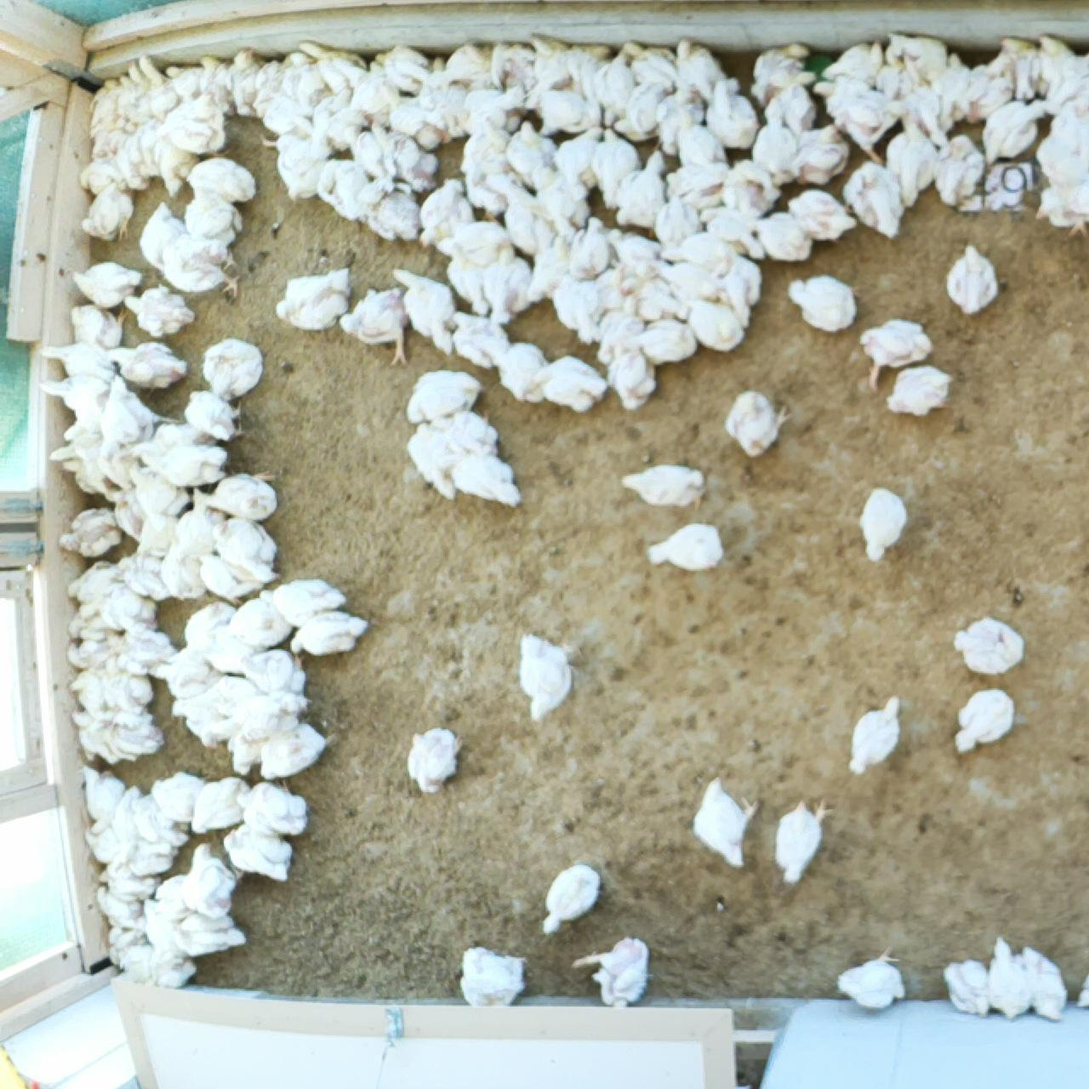chicken: (99, 370, 186, 464), (813, 74, 902, 165), (200, 690, 310, 750), (693, 774, 759, 872), (513, 630, 582, 723), (392, 265, 460, 356), (255, 127, 335, 204), (156, 232, 245, 301), (573, 937, 653, 1012), (773, 794, 836, 887), (834, 940, 909, 1017), (859, 315, 933, 392), (341, 286, 409, 367), (155, 89, 231, 160), (36, 373, 109, 446), (949, 614, 1032, 677), (258, 577, 348, 635), (708, 245, 768, 331), (273, 265, 351, 331), (724, 387, 793, 461), (538, 859, 602, 938), (950, 683, 1018, 757), (843, 161, 907, 239), (847, 691, 905, 777), (885, 113, 939, 205), (237, 647, 311, 714), (894, 53, 946, 148), (609, 148, 669, 230), (484, 238, 539, 327), (259, 720, 337, 782), (648, 255, 720, 322), (400, 723, 466, 796), (188, 470, 277, 524), (590, 124, 644, 212), (234, 777, 307, 842), (532, 355, 611, 415), (415, 174, 475, 253), (282, 607, 369, 661), (103, 341, 190, 395), (449, 448, 526, 509), (210, 516, 281, 582), (984, 935, 1036, 1025), (417, 53, 471, 139), (701, 74, 761, 151), (248, 46, 312, 118), (405, 367, 483, 426), (179, 843, 241, 917), (222, 819, 293, 883), (981, 98, 1047, 166), (752, 96, 801, 187), (456, 946, 529, 1007), (786, 275, 862, 333), (944, 240, 999, 319), (533, 79, 605, 139), (960, 48, 1015, 126), (201, 338, 267, 403), (180, 184, 245, 249), (621, 462, 707, 511), (1017, 945, 1069, 1026), (655, 79, 707, 160), (406, 422, 459, 501), (647, 521, 727, 573), (531, 169, 593, 236), (312, 155, 373, 223), (139, 441, 231, 486), (353, 185, 423, 244), (506, 119, 561, 194), (520, 31, 575, 106), (487, 337, 549, 403), (112, 614, 174, 680), (857, 486, 910, 562), (744, 40, 810, 101), (450, 216, 523, 271), (168, 494, 225, 564), (379, 97, 450, 153), (124, 285, 195, 341), (313, 86, 368, 158), (933, 132, 985, 208), (458, 164, 527, 221), (187, 775, 251, 836), (595, 291, 646, 367), (695, 202, 763, 259), (626, 312, 695, 368), (347, 120, 398, 195), (450, 116, 517, 173), (149, 647, 216, 704), (195, 554, 262, 611), (55, 505, 123, 561), (529, 231, 579, 307), (138, 202, 188, 278), (186, 153, 259, 205), (785, 190, 859, 241), (556, 125, 608, 197), (440, 238, 488, 315), (818, 37, 889, 89), (1035, 115, 1089, 183), (450, 309, 509, 371), (664, 159, 733, 212), (790, 122, 846, 187), (96, 710, 166, 762), (551, 273, 602, 344), (885, 364, 953, 417), (177, 908, 249, 958), (602, 221, 664, 279), (197, 621, 261, 677), (502, 182, 549, 258), (584, 255, 635, 325), (71, 260, 141, 311), (224, 598, 291, 651), (97, 580, 158, 638), (79, 765, 128, 837), (614, 272, 683, 323), (604, 348, 658, 413), (1033, 180, 1089, 242), (721, 159, 784, 214), (60, 454, 123, 509), (671, 39, 725, 103), (614, 77, 666, 143), (997, 35, 1049, 101), (686, 295, 744, 354), (762, 74, 820, 133), (674, 105, 728, 168), (40, 339, 121, 381), (882, 33, 948, 84), (351, 59, 399, 129), (185, 388, 247, 442), (460, 88, 528, 137), (83, 180, 135, 244), (132, 420, 212, 461), (750, 211, 813, 263), (297, 39, 365, 87), (388, 131, 438, 196), (621, 38, 676, 97), (131, 795, 190, 850), (68, 708, 123, 767), (595, 50, 636, 129), (571, 213, 619, 280), (98, 659, 155, 715), (86, 436, 143, 492), (128, 466, 186, 521), (651, 190, 702, 252), (117, 548, 173, 604), (150, 770, 207, 825), (152, 132, 198, 200), (156, 540, 209, 599), (373, 42, 433, 94), (227, 48, 268, 124), (64, 306, 130, 353), (942, 958, 992, 1020), (440, 412, 503, 461), (279, 59, 335, 114), (169, 689, 221, 748), (201, 674, 266, 721), (562, 38, 610, 101), (66, 556, 122, 610), (101, 131, 149, 194), (182, 597, 235, 654), (531, 88, 590, 139), (1047, 50, 1089, 119), (937, 49, 971, 133), (134, 901, 181, 960), (103, 483, 148, 544), (659, 234, 734, 270), (254, 91, 309, 140), (440, 41, 497, 88), (81, 73, 123, 136), (489, 41, 537, 96), (112, 839, 178, 879), (132, 510, 180, 565), (121, 117, 163, 178), (147, 947, 199, 995), (97, 865, 160, 904), (1033, 31, 1072, 93), (94, 885, 148, 929), (112, 941, 158, 992), (124, 62, 159, 129), (104, 923, 153, 970), (198, 54, 234, 116), (67, 630, 120, 672), (149, 869, 195, 917), (105, 785, 144, 841), (48, 429, 105, 466), (66, 599, 111, 644), (68, 666, 107, 716), (80, 824, 123, 865), (872, 41, 904, 96), (73, 156, 125, 189), (227, 731, 262, 777), (86, 117, 118, 165), (112, 73, 139, 129), (162, 63, 203, 99)
